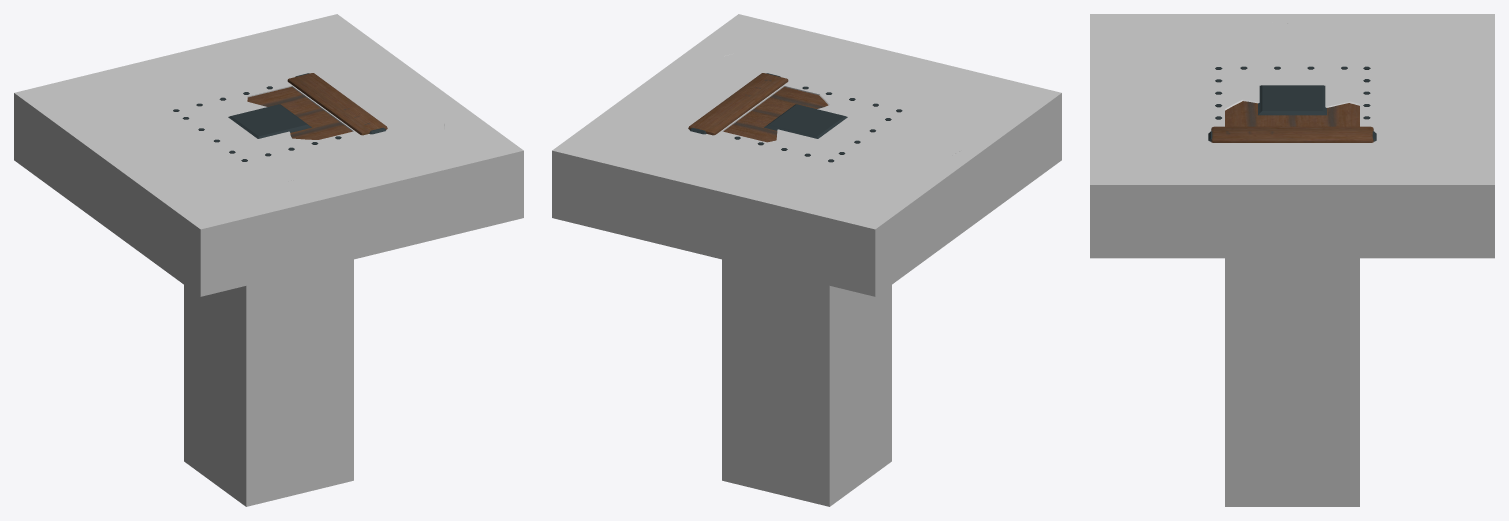
Rendered from Flat-Holes.fbx.
The picture shows the model from 3 angles, left to right: view 1: azimuth 30°, elevation 25°; view 2: azimuth 150°, elevation 25°; view 3: azimuth 270°, elevation 25°; orthographic projection. The views are drawn at different scales.
Visible parts, largest first — view 1: Solid Trapdoor Hole High Thin 3x3, Simple Trapdoor Hole 3x3, Solid Trapdoor Hole Thick 3x3, Solid Ceiling Mid Hole Thin 3x3, Solid Ceiling Hole Thin 3x3 BL, Solid Ceiling Hole Thin 3x3 FL, Solid Trapdoor Hole D Thick 3x3, Solid Mid Hole D Thick 3x3, Solid Mid Hole Thick 3x3, Solid Ceiling Hole Thin 3x3 BR, Trapdoor Wood Whole, Solid Ceiling Hole Thin 3x3 FR (+9 smaller); view 2: Solid Trapdoor Hole High Thin 3x3, Simple Trapdoor Hole 3x3, Solid Trapdoor Hole Thick 3x3, Solid Ceiling Mid Hole Thin 3x3, Solid Ceiling Hole Thin 3x3 FR, Solid Ceiling Hole Thin 3x3 BL, Solid Trapdoor Hole D Thick 3x3, Solid Ceiling Hole Thin 3x3 FL, Solid Mid Hole Thick 3x3, Solid Mid Hole D Thick 3x3, Trapdoor Wood Whole, Solid Ceiling Hole Thin 3x3 BR (+9 smaller); view 3: Solid Trapdoor Hole High Thin 3x3, Simple Trapdoor Hole 3x3, Solid Trapdoor Hole Thick 3x3, Solid Trapdoor Hole D Thick 3x3, Solid Ceiling Mid Hole Thin 3x3, Solid Mid Hole D Thick 3x3, Trapdoor Wood Whole, Solid Ceiling Hole Thin 3x3 BL, Solid Hole D Thick 3x3 FR, Solid Ceiling Hole Thin 3x3 FL, Solid Ceiling Hole Thin 3x3 BR, Solid Trapdoor Hole Thin 3x3 (+7 smaller).
Boxes of the visible parts, left/top/right/bottom form: Solid Trapdoor Hole High Thin 3x3: left=14, top=14, right=523, bottom=240; Simple Trapdoor Hole 3x3: left=184, top=259, right=353, bottom=506; Solid Trapdoor Hole Thick 3x3: left=14, top=104, right=523, bottom=296; Solid Ceiling Mid Hole Thin 3x3: left=14, top=14, right=523, bottom=240; Solid Ceiling Hole Thin 3x3 BL: left=21, top=15, right=351, bottom=239; Solid Ceiling Hole Thin 3x3 FL: left=15, top=89, right=522, bottom=228; Solid Trapdoor Hole D Thick 3x3: left=14, top=105, right=523, bottom=294; Solid Mid Hole D Thick 3x3: left=14, top=109, right=523, bottom=295; Solid Mid Hole Thick 3x3: left=16, top=109, right=523, bottom=296; Solid Ceiling Hole Thin 3x3 BR: left=14, top=16, right=523, bottom=183; Trapdoor Wood Whole: left=247, top=73, right=387, bottom=139; Solid Ceiling Hole Thin 3x3 FR: left=164, top=15, right=519, bottom=236; Solid Trapdoor Hole High Thin 3x3: left=552, top=14, right=1061, bottom=240; Simple Trapdoor Hole 3x3: left=722, top=259, right=891, bottom=506; Solid Trapdoor Hole Thick 3x3: left=552, top=104, right=1061, bottom=296; Solid Ceiling Mid Hole Thin 3x3: left=552, top=14, right=1061, bottom=240; Solid Ceiling Hole Thin 3x3 FR: left=552, top=14, right=1061, bottom=186; Solid Ceiling Hole Thin 3x3 BL: left=554, top=92, right=1056, bottom=228; Solid Trapdoor Hole D Thick 3x3: left=552, top=108, right=1061, bottom=295; Solid Ceiling Hole Thin 3x3 FL: left=709, top=16, right=1058, bottom=239; Solid Mid Hole Thick 3x3: left=552, top=105, right=1061, bottom=296; Solid Mid Hole D Thick 3x3: left=552, top=116, right=1061, bottom=294; Trapdoor Wood Whole: left=688, top=73, right=827, bottom=142; Solid Ceiling Hole Thin 3x3 BR: left=556, top=15, right=897, bottom=238; Solid Trapdoor Hole High Thin 3x3: left=1090, top=14, right=1494, bottom=197; Simple Trapdoor Hole 3x3: left=1225, top=258, right=1359, bottom=506; Solid Trapdoor Hole Thick 3x3: left=1090, top=197, right=1494, bottom=258; Solid Trapdoor Hole D Thick 3x3: left=1090, top=197, right=1494, bottom=258; Solid Ceiling Mid Hole Thin 3x3: left=1090, top=14, right=1494, bottom=197; Solid Mid Hole D Thick 3x3: left=1090, top=197, right=1494, bottom=257; Trapdoor Wood Whole: left=1211, top=101, right=1373, bottom=142; Solid Ceiling Hole Thin 3x3 BL: left=1090, top=14, right=1494, bottom=197; Solid Hole D Thick 3x3 FR: left=1091, top=217, right=1494, bottom=258; Solid Ceiling Hole Thin 3x3 FL: left=1090, top=14, right=1494, bottom=196; Solid Ceiling Hole Thin 3x3 BR: left=1090, top=15, right=1494, bottom=184; Solid Trapdoor Hole Thin 3x3: left=1090, top=197, right=1494, bottom=209.
Size of what is drawn, in the model's own units: 3 by 3.12 by 3.
